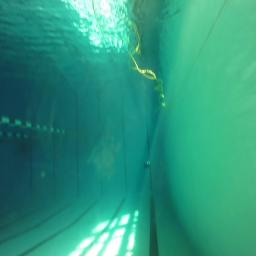Full: (143, 161, 153, 170)
